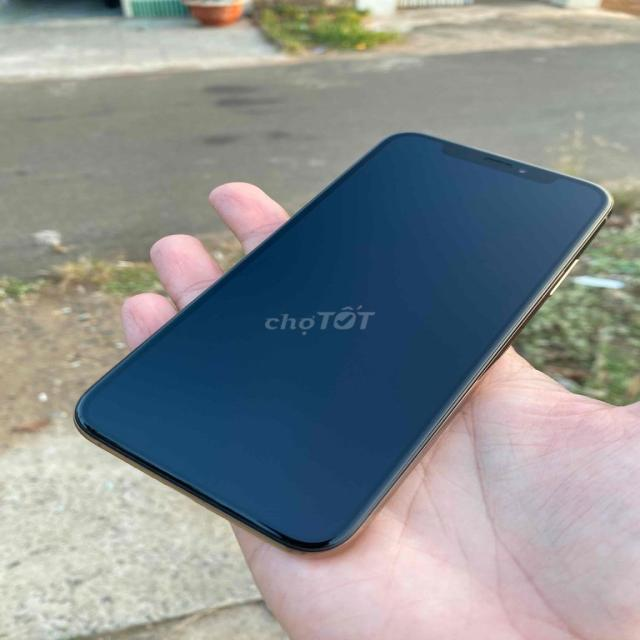gen_x_xs: (77, 134, 609, 551), (401, 186, 403, 191)
